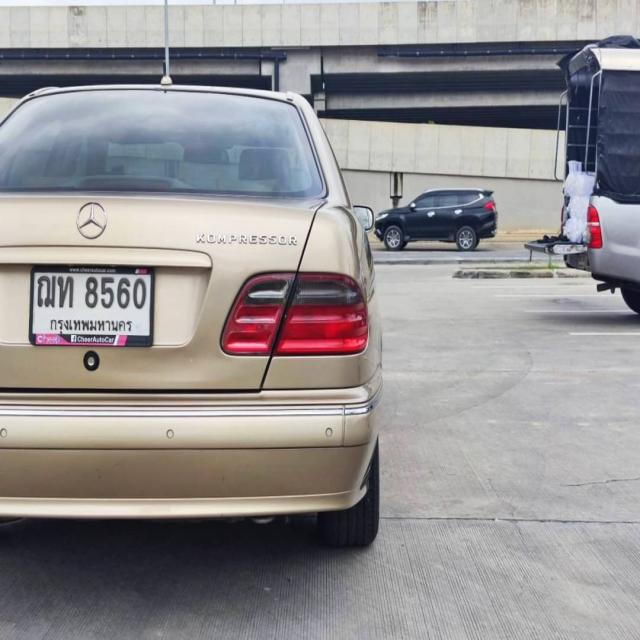license_plate: (29, 262, 154, 348)
